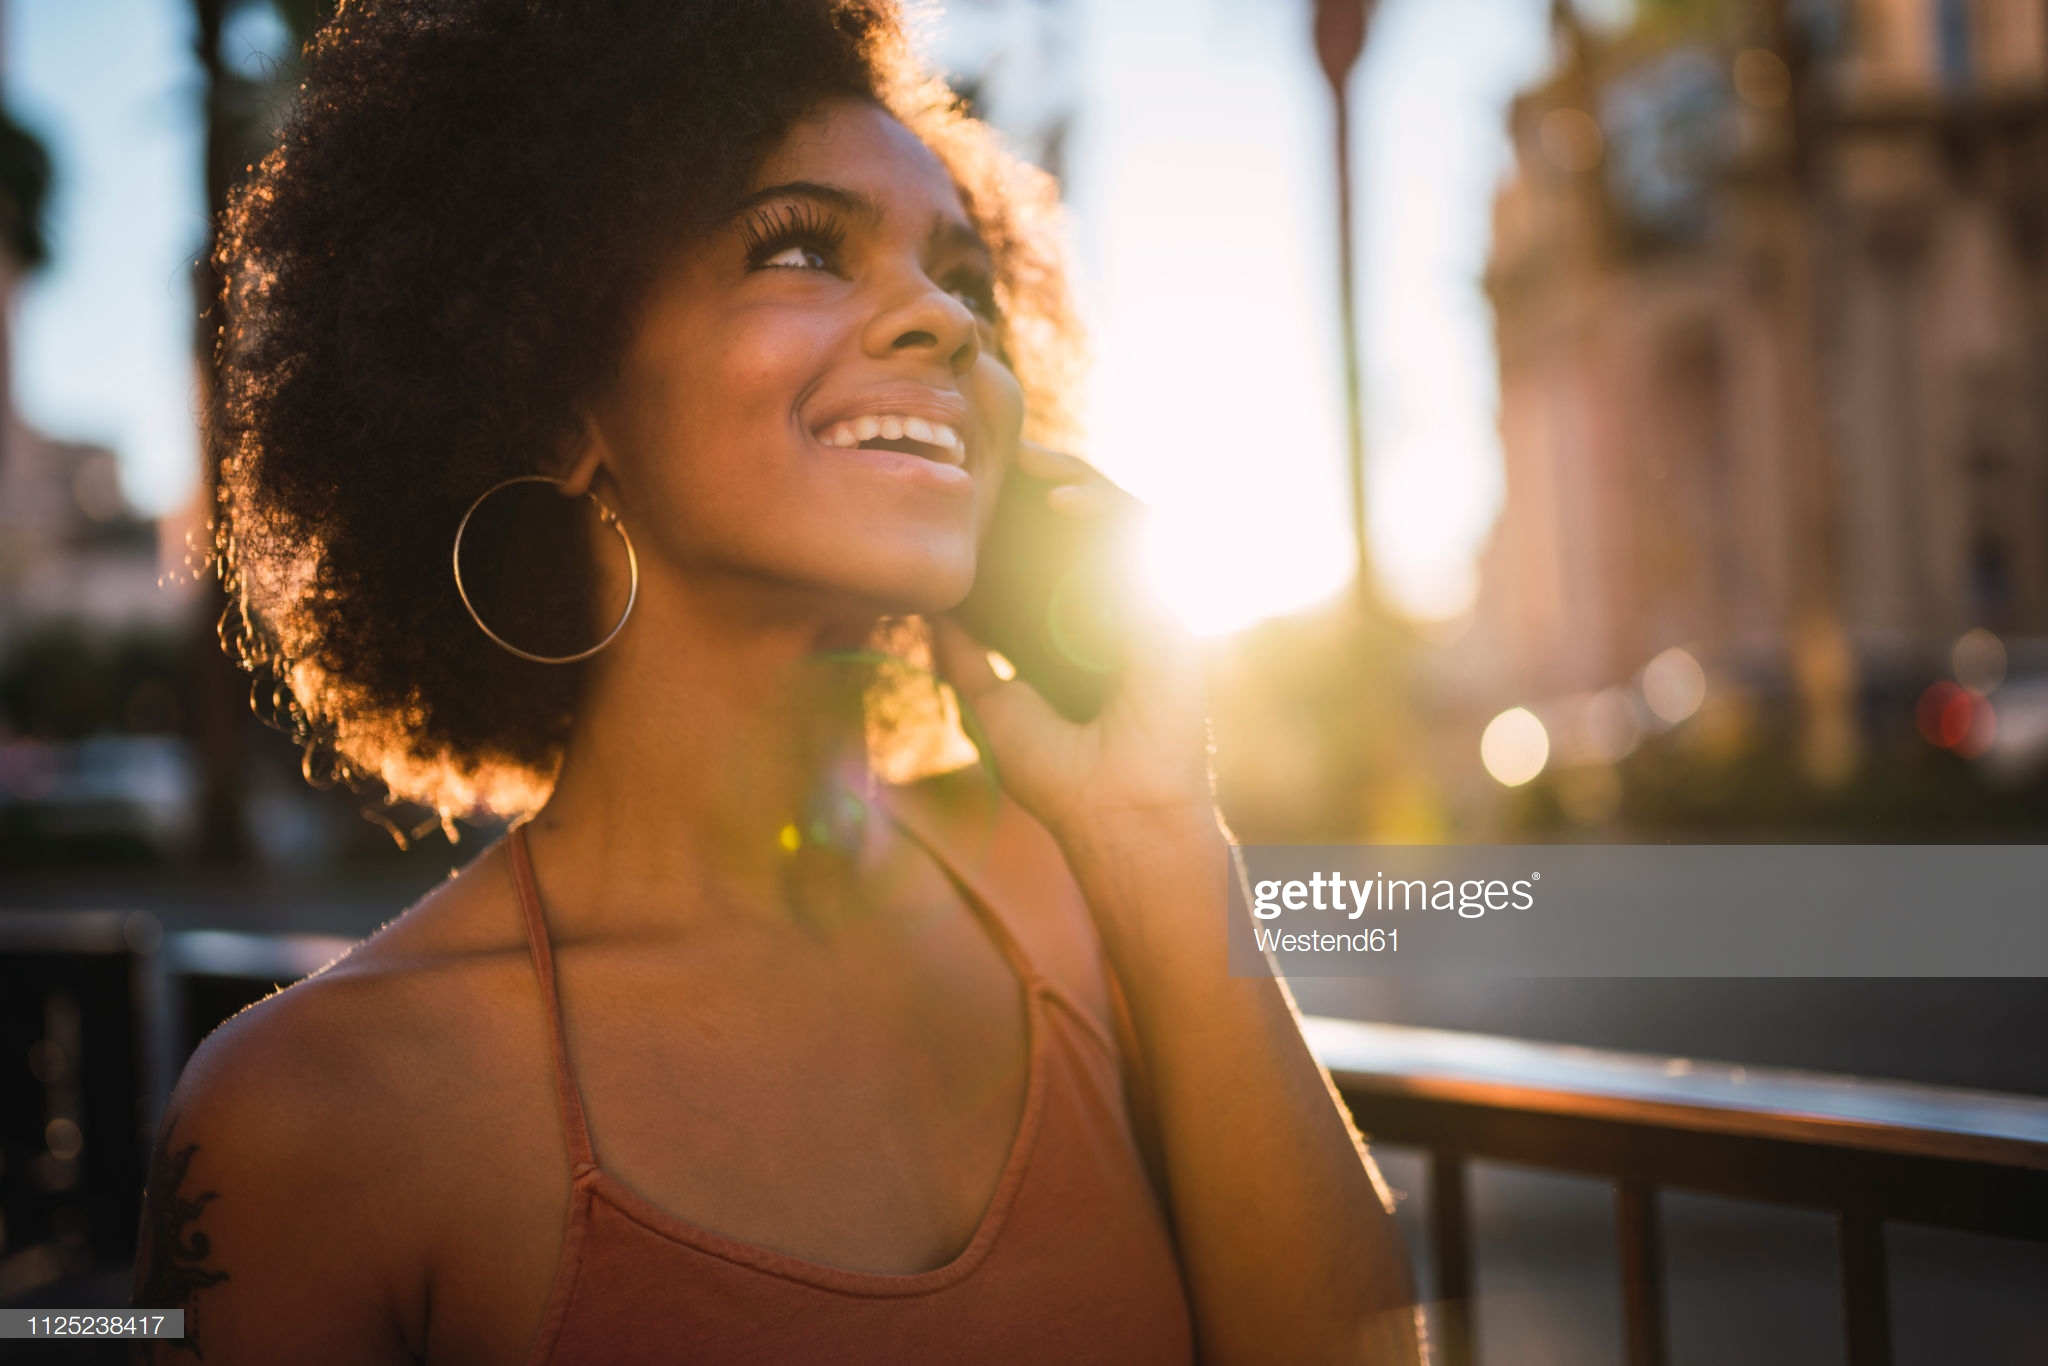phone: (946, 409, 1184, 758)
talk: (649, 165, 1253, 842)
